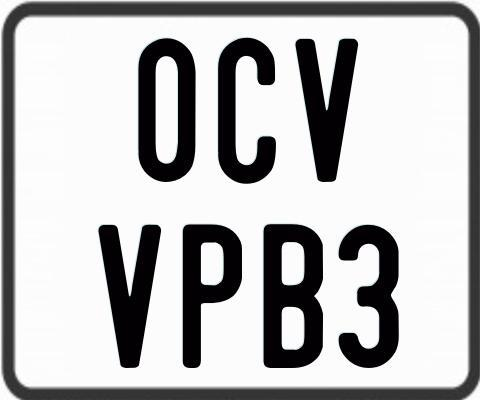0: (136, 37, 197, 182)
3: (338, 222, 404, 365)
B: (264, 221, 329, 366)
C: (217, 36, 277, 183)
P: (180, 223, 244, 373)
V: (95, 222, 163, 369), (293, 36, 360, 185)
